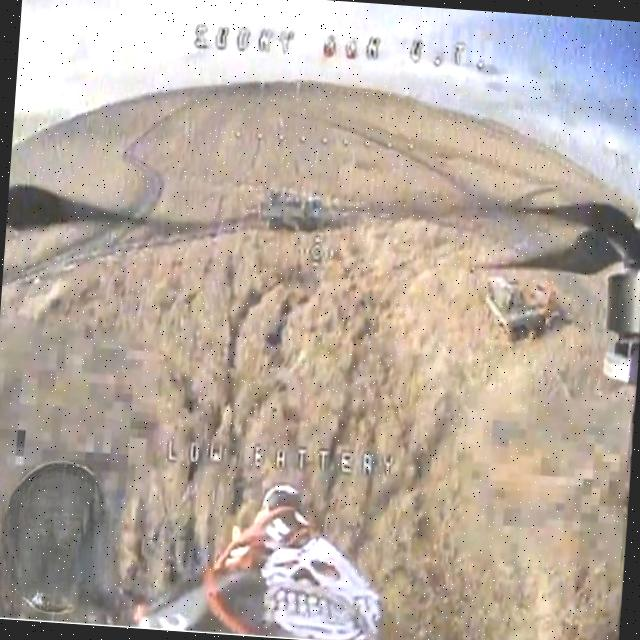Vehicle: (484, 273, 565, 343), (261, 187, 326, 237)
